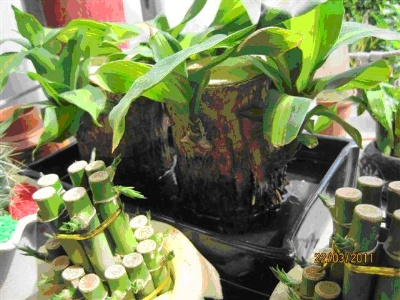plate: (19, 92, 363, 298)
